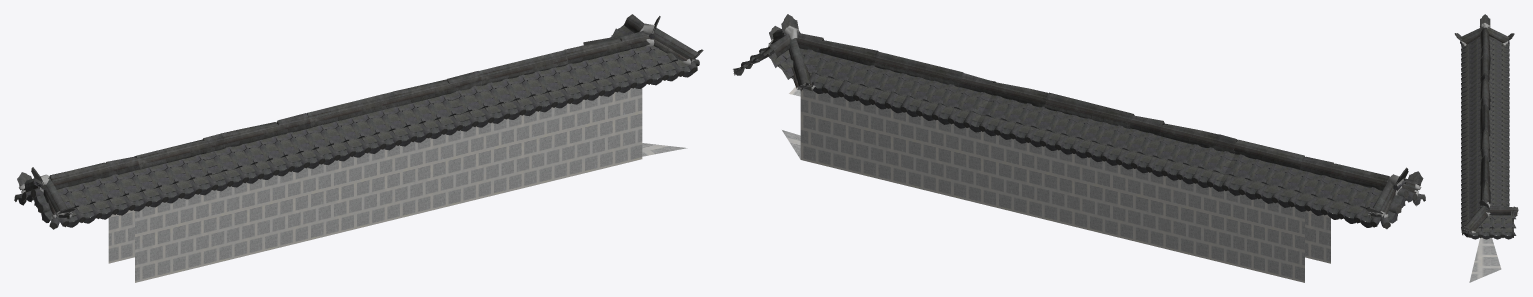
Rendered from giwa_wall.glb.
3 views of the same model, side by side, from view 1: azimuth 30°, elevation 25°; view 2: azimuth 150°, elevation 25°; view 3: azimuth 270°, elevation 25° (orthographic). The views are drawn at different scales.
Parts seen in each view (by area): view 1: Object074_Material #925_0, Object074_15 - Default_0, Object077_Material #925_0, Object077_15 - Default_0, Object070_15 - Default_0, Object070_Material #925_0; view 2: Object074_Material #925_0, Object074_15 - Default_0, Object077_Material #925_0, Object077_15 - Default_0, Object070_15 - Default_0, Object070_Material #925_0; view 3: Object077_15 - Default_0, Object074_15 - Default_0, Object070_15 - Default_0, Object077_Material #925_0.
Part boxes in pixels (x1,y1,x2,y2): Object074_Material #925_0: (216,129,460,262); Object074_15 - Default_0: (202,79,466,190); Object077_Material #925_0: (461,83,687,203); Object077_15 - Default_0: (446,14,703,131); Object070_15 - Default_0: (14,139,221,229); Object070_Material #925_0: (108,189,216,282); Object074_Material #925_0: (981,130,1223,262); Object074_15 - Default_0: (975,82,1237,191); Object077_Material #925_0: (782,83,980,203); Object077_15 - Default_0: (733,14,995,132); Object070_15 - Default_0: (1218,139,1425,229); Object070_Material #925_0: (1224,190,1330,282); Object077_15 - Default_0: (1461,146,1518,239); Object074_15 - Default_0: (1461,72,1509,164); Object070_15 - Default_0: (1454,14,1514,91); Object077_Material #925_0: (1469,237,1501,282).
Size of the model in its own units: 16.12 by 3.02 by 2.24.
Materials: 2 (2 with a texture image).
